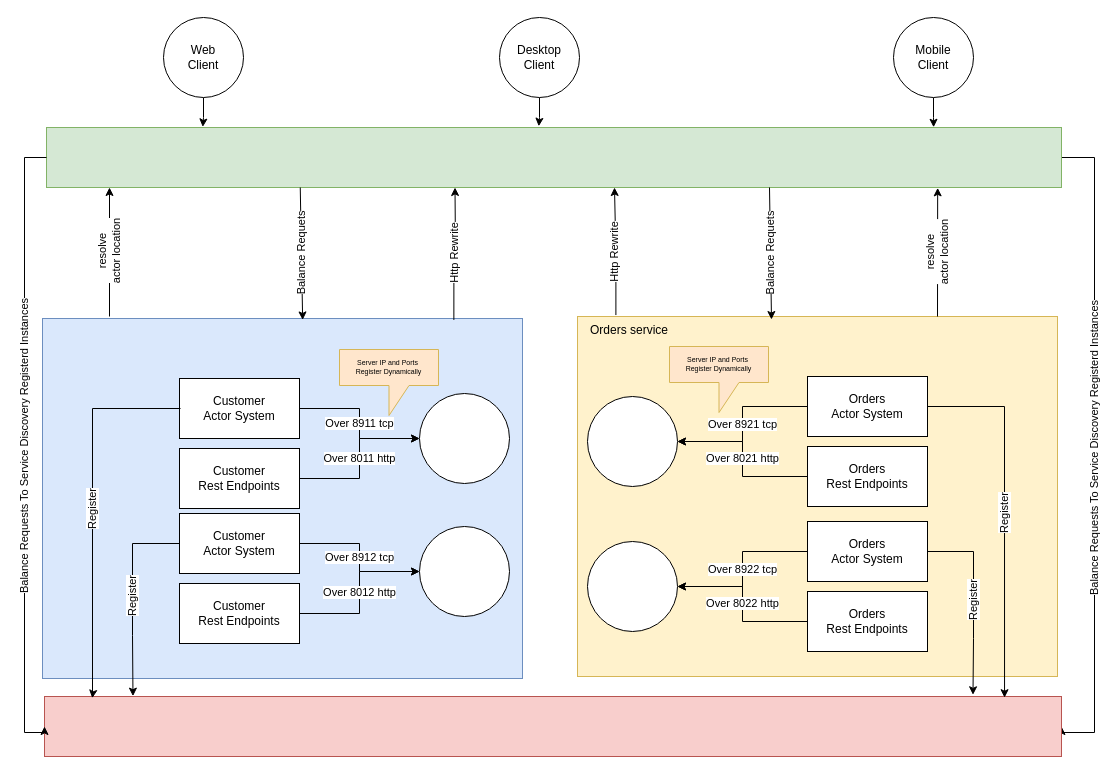
The diagram is 1120 pixels wide and 774 high, and some of its shapes have lost their labels. The box of each missing label's shape, as (x1, y1, x2, y2) in pixels:
Consul Service Discovery http://localhost:8500: (44, 696, 1062, 756)
Customer App Instance 2: (418, 526, 510, 616)
Customers App Instance 1: (418, 392, 510, 484)
Customers service: (42, 318, 522, 678)
Microsoft Yarp Reverse Proxy http://localhost:8900: (46, 126, 1062, 188)
Orders App Instance 1: (586, 396, 678, 486)
Orders App Instance 2: (586, 540, 678, 632)
